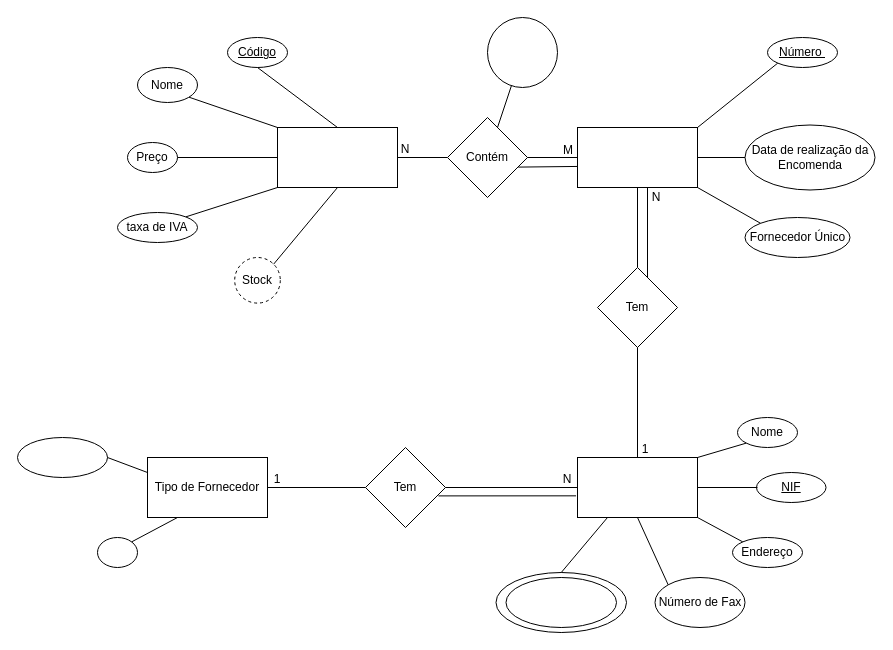
Some shapes in this 893 by 650 pixel diagram are drawn without their labels. The centre of each missing label's shape, as x and y in pixels:
"Condições de Pagamento" belongs at (560,602).
"Designação" belongs at (62,457).
"Encomenda" belongs at (637,157).
"Fornecedor" belongs at (637,487).
"Id" belongs at (117,552).
"Produto" belongs at (337,157).
"Quantidade" belongs at (522,52).
